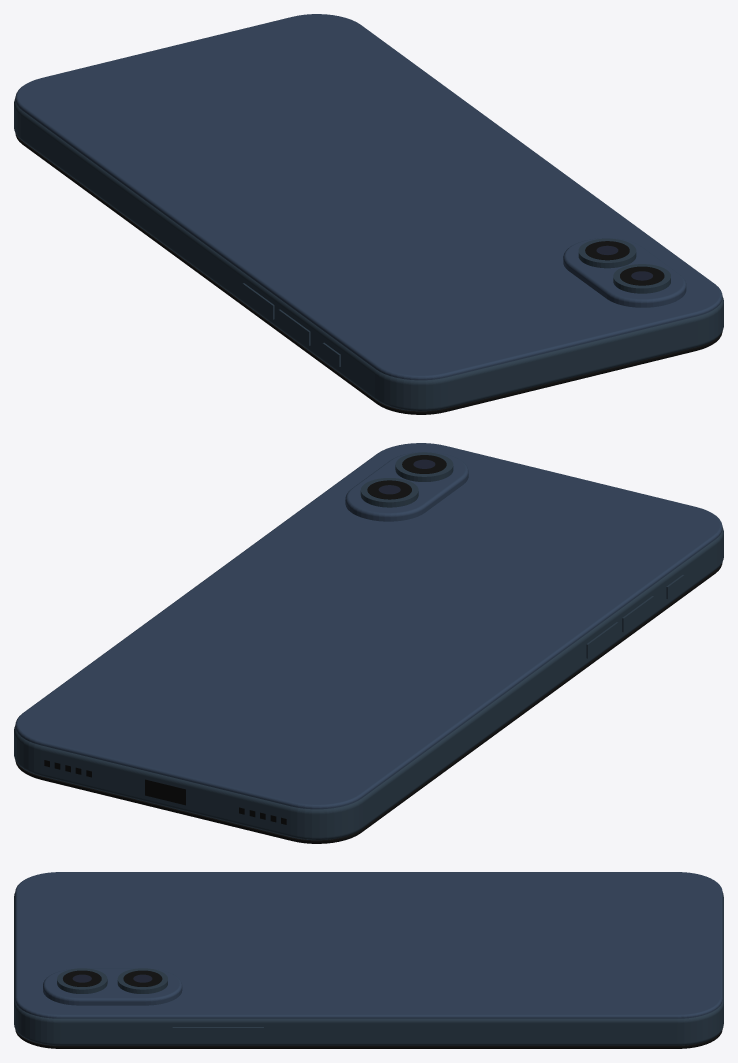
3 renders of one model, top to bottom at view 1: azimuth 30°, elevation 25°; view 2: azimuth 150°, elevation 25°; view 3: azimuth 270°, elevation 25°, orthographic. The views are drawn at different scales.
Parts seen in each view (by area): view 1: g4-glass, g0-metal, g1-glass, g5-glass; view 2: g4-glass, g0-metal, g1-glass, g5-glass, g7-plastic; view 3: g4-glass, g0-metal, g1-glass, g5-glass.
Boxes of the visible parts, <box> form: g4-glass: <box>15,14,722,380</box>; g0-metal: <box>14,98,723,411</box>; g1-glass: <box>15,133,722,414</box>; g5-glass: <box>585,241,664,285</box>; g4-glass: <box>15,443,722,809</box>; g0-metal: <box>14,452,723,840</box>; g1-glass: <box>15,562,722,843</box>; g5-glass: <box>367,455,446,499</box>; g7-plastic: <box>44,760,286,824</box>; g4-glass: <box>15,872,722,1018</box>; g0-metal: <box>14,892,723,1045</box>; g1-glass: <box>15,1029,722,1048</box>; g5-glass: <box>63,970,162,986</box>.
Bounding box in the file's own units: 72.3 × 10.49 × 148.
